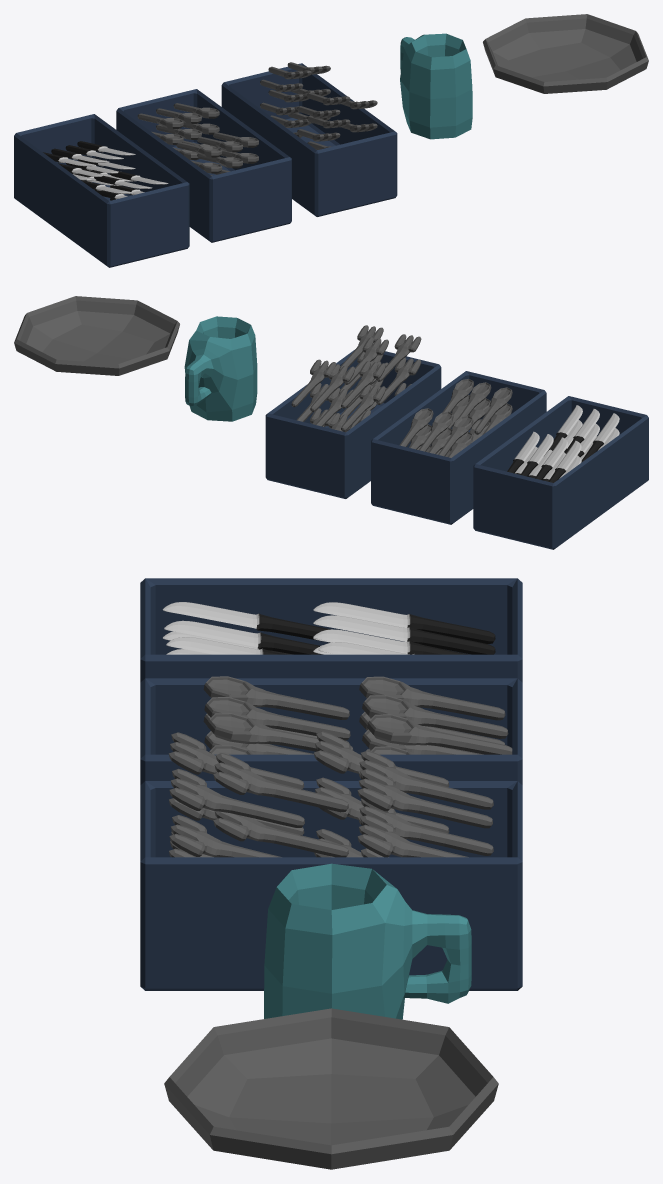
The model's file is Vaisselle.fbx.
3 views of the same model, one above another, from view 1: azimuth 30°, elevation 25°; view 2: azimuth 150°, elevation 25°; view 3: azimuth 270°, elevation 25° (orthographic). The views are drawn at different scales.
Visible parts, largest first — view 1: Cube.046, Cube.002, Cube.024, Cube.001, Cube, Cube.028, Cube.027, Cube.026, Cube.044, Cube.025; view 2: Cube.046, Cube.024, Cube.002, Cube.001, Cube, Cube.043, Cube.042, Cube.051, Cube.012, Cube.047, Cube.053, Cube.027 (+15 smaller); view 3: Cube.002, Cube.001, Cube.046, Cube, Cube.024, Cube.012, Cube.045, Cube.048, Cube.044, Cube.004, Cube.027, Cube.005 (+18 smaller).
Part boxes in pixels (left/top/right/bottom): Cube.046: left=14, top=114, right=189, bottom=267; Cube.002: left=221, top=63, right=397, bottom=216; Cube.024: left=116, top=89, right=291, bottom=242; Cube.001: left=483, top=14, right=648, bottom=93; Cube: left=400, top=33, right=472, bottom=139; Cube.028: left=197, top=136, right=242, bottom=152; Cube.027: left=176, top=142, right=222, bottom=157; Cube.026: left=137, top=113, right=183, bottom=129; Cube.044: left=173, top=103, right=219, bottom=118; Cube.025: left=156, top=108, right=201, bottom=123; Cube.046: left=473, top=396, right=648, bottom=549; Cube.024: left=371, top=371, right=546, bottom=524; Cube.002: left=265, top=349, right=441, bottom=498; Cube.001: left=14, top=296, right=179, bottom=375; Cube: left=184, top=316, right=257, bottom=421; Cube.043: left=341, top=361, right=385, bottom=408; Cube.042: left=310, top=364, right=355, bottom=411; Cube.051: left=341, top=384, right=385, bottom=431; Cube.012: left=291, top=359, right=336, bottom=407; Cube.047: left=376, top=334, right=421, bottom=381; Cube.053: left=376, top=357, right=421, bottom=404; Cube.027: left=474, top=387, right=512, bottom=434; Cube.002: left=140, top=781, right=522, bottom=990; Cube.001: left=164, top=1008, right=498, bottom=1169; Cube.046: left=140, top=578, right=522, bottom=682; Cube: left=264, top=863, right=471, bottom=1019; Cube.024: left=140, top=678, right=522, bottom=784; Cube.012: left=357, top=769, right=492, bottom=828; Cube.045: left=213, top=753, right=348, bottom=812; Cube.048: left=169, top=768, right=304, bottom=827; Cube.044: left=367, top=714, right=512, bottom=754; Cube.004: left=313, top=615, right=495, bottom=654; Cube.027: left=203, top=676, right=349, bottom=719; Cube.005: left=313, top=602, right=495, bottom=643.
Size of the model in its own units: 1808 by 291 by 518.
